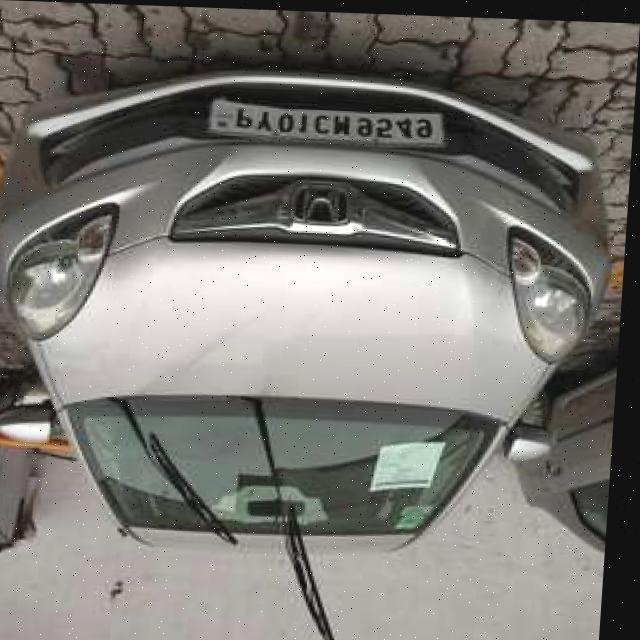plate: (212, 99, 446, 142)
